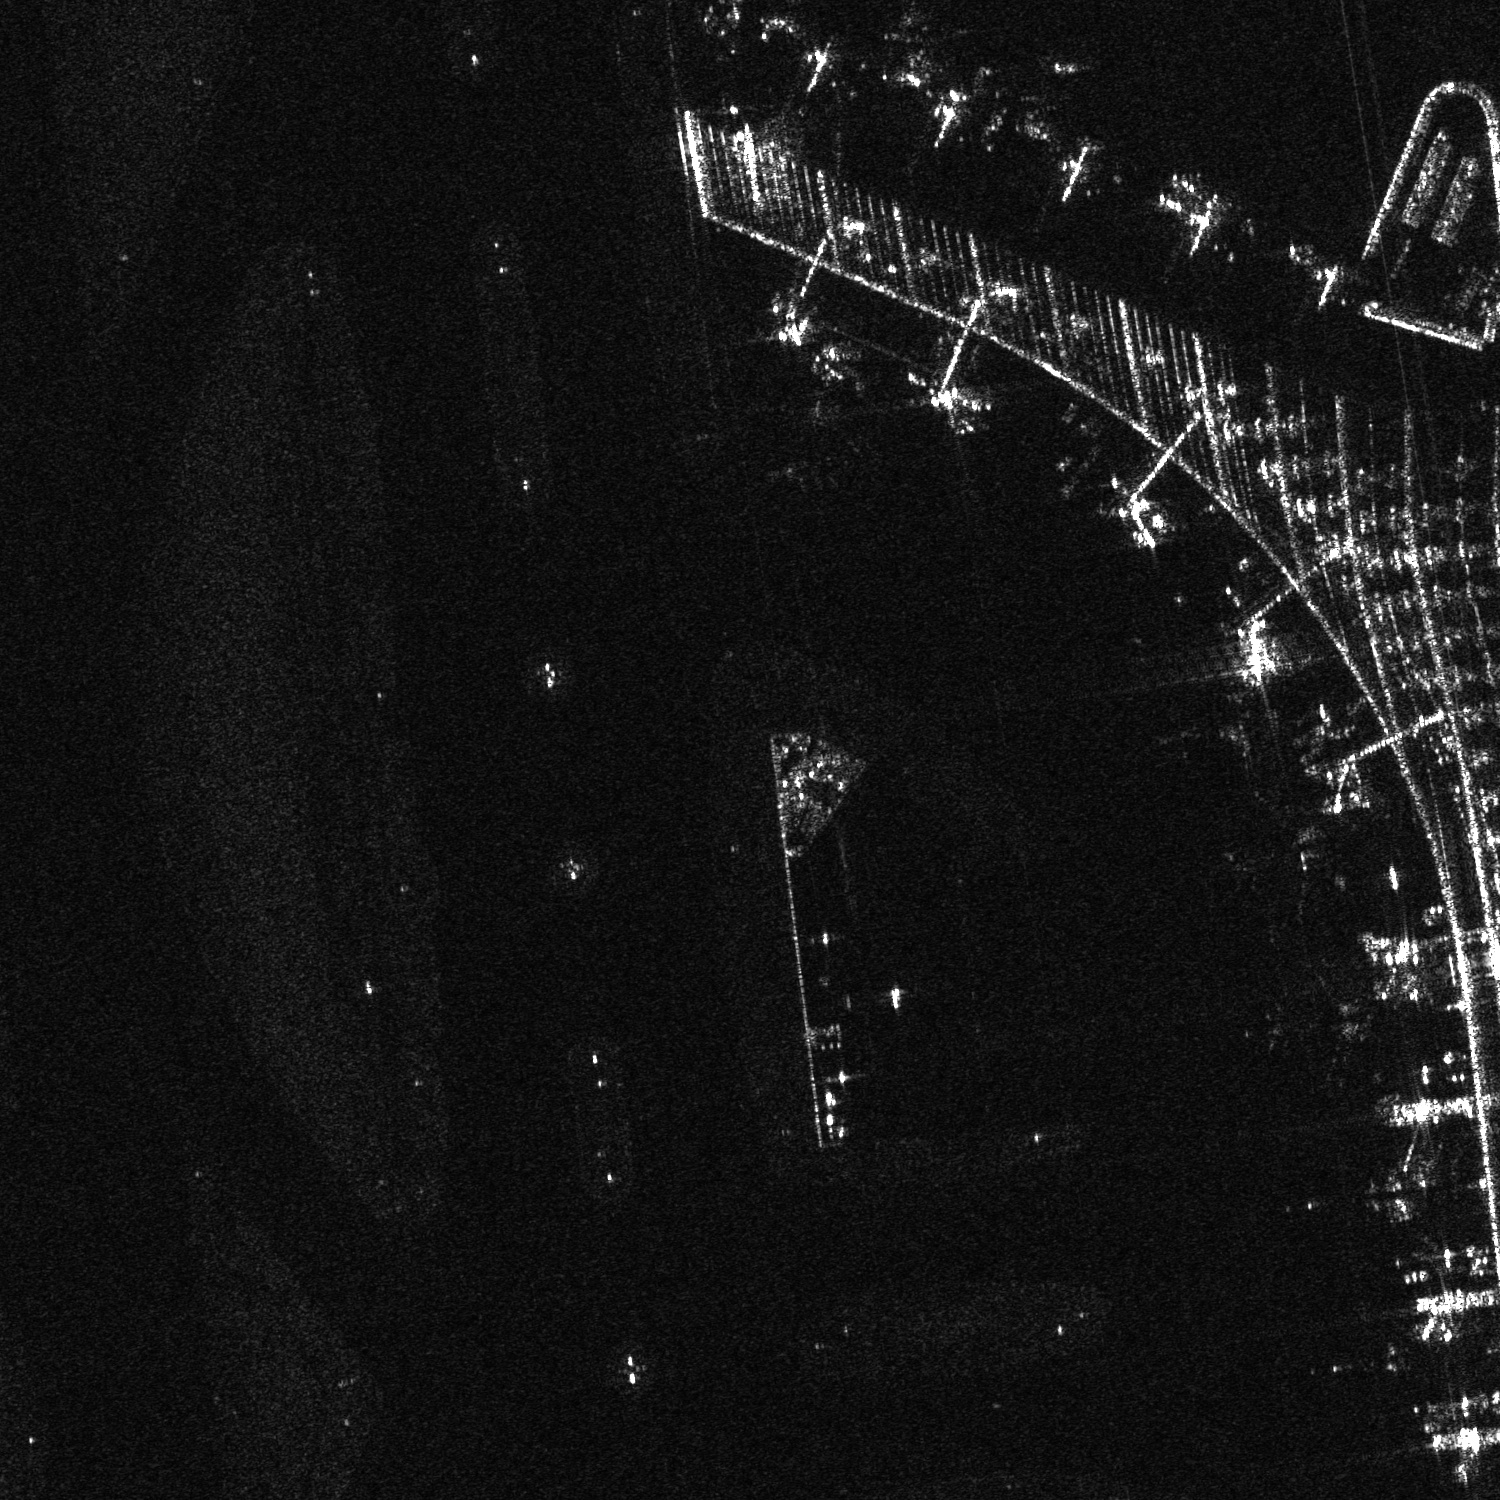Boeing787: (1223, 793, 1330, 923)
other: (1266, 957, 1374, 1084), (1163, 668, 1269, 780), (760, 348, 874, 451)
